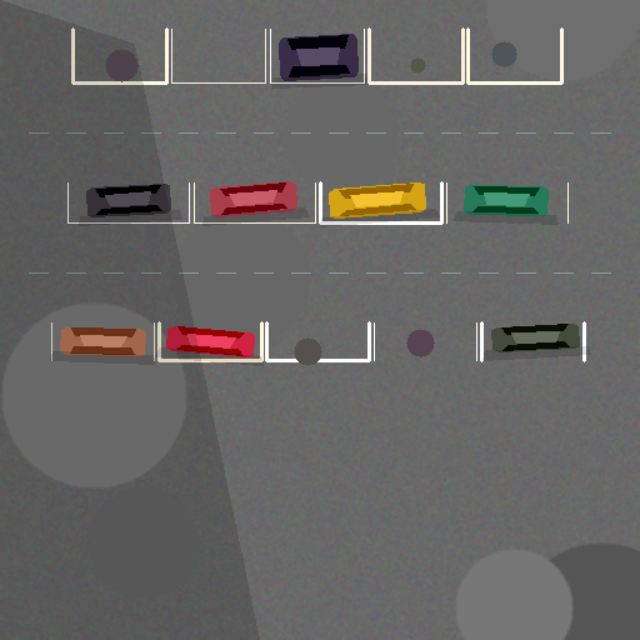space-empty: (72, 29, 166, 82), (171, 29, 265, 82), (369, 29, 462, 82), (468, 29, 561, 82), (266, 322, 369, 360), (374, 322, 476, 360)
space-occupied: (270, 29, 364, 82), (67, 182, 189, 222), (194, 182, 315, 222), (320, 182, 441, 222), (446, 182, 567, 222), (51, 322, 154, 360), (481, 322, 584, 360), (159, 322, 261, 360)
